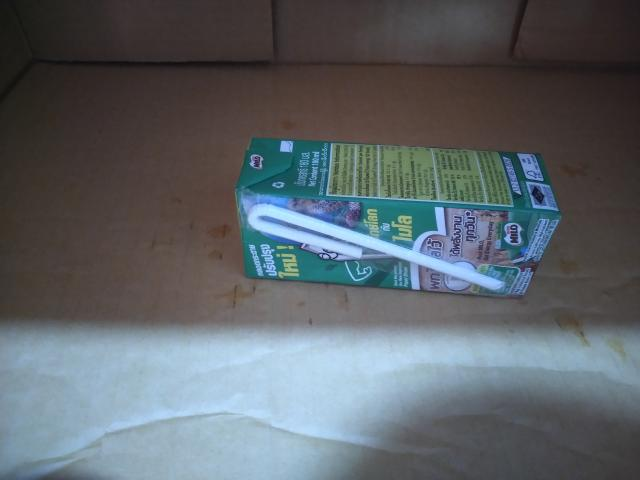drink_box: (224, 125, 574, 316)
